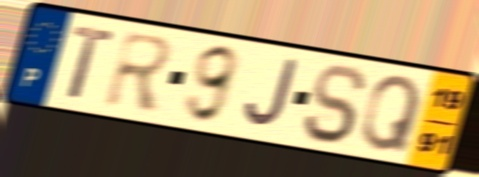9: (180, 43, 242, 125)
J: (241, 56, 301, 132)
Q: (358, 73, 425, 156)
R: (101, 28, 178, 115)
S: (300, 62, 371, 147)
T: (66, 23, 119, 102)
